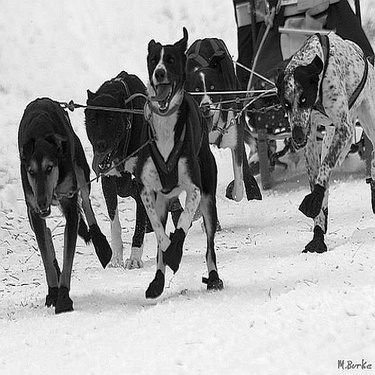dog: (102, 21, 227, 305), (129, 29, 265, 230), (4, 94, 118, 320), (268, 17, 366, 273), (65, 55, 173, 275)
